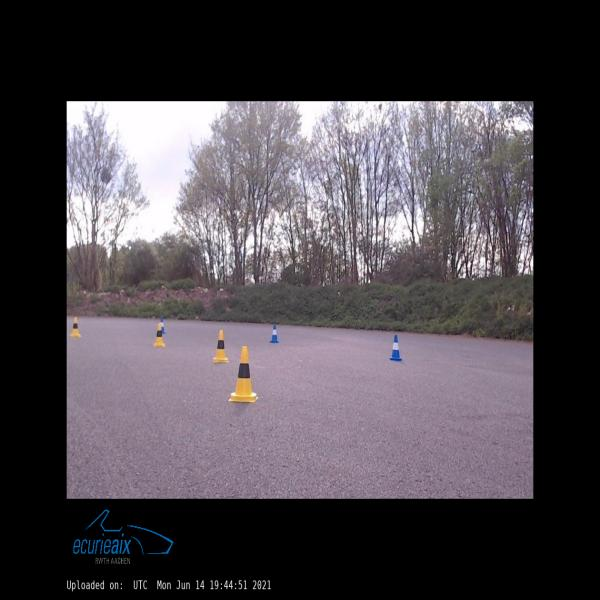blue_cone: (389, 335, 402, 360), (270, 324, 278, 343), (161, 318, 165, 334)
yellow_cone: (228, 346, 258, 402), (213, 331, 229, 362), (154, 323, 165, 346), (70, 317, 80, 337)
